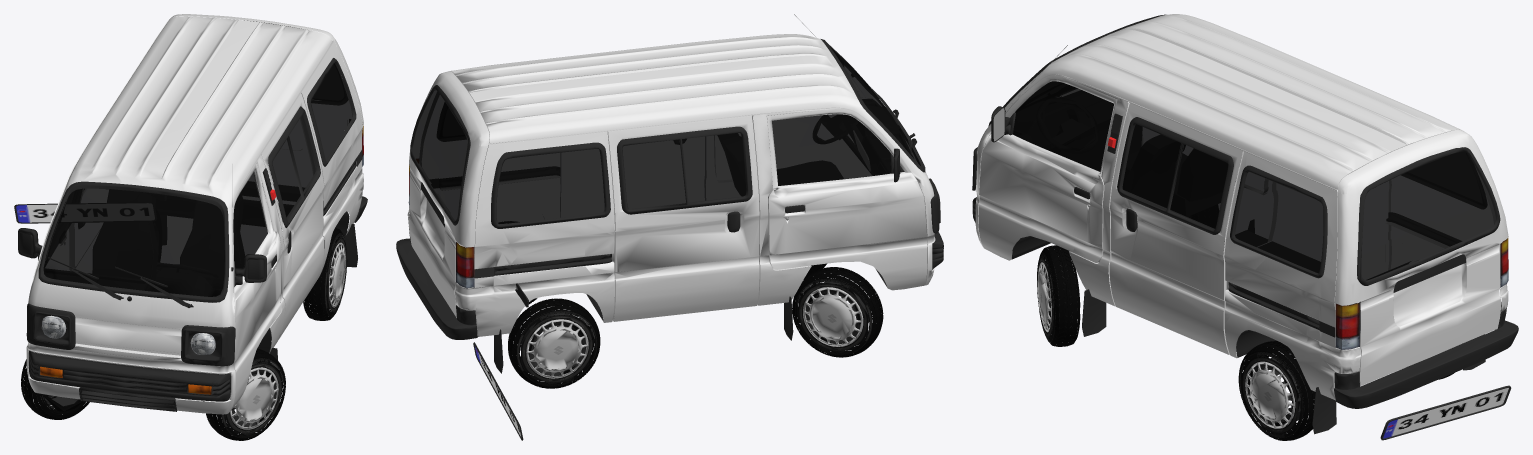
Rendered from suzuki_carry_minivan.glb.
3 renders of one model, left to right at view 1: azimuth 30°, elevation 25°; view 2: azimuth 150°, elevation 25°; view 3: azimuth 270°, elevation 25°, orthographic. The views are drawn at different scales.
Visible parts, largest first — view 1: 3DSMeshMatrix (×17); view 2: 3DSMeshMatrix (×14); view 3: 3DSMeshMatrix (×17).
Boxes of the visible parts, left/top/right/bottom form: 3DSMeshMatrix (×17): left=14, top=14, right=367, bottom=440; 3DSMeshMatrix (×14): left=396, top=34, right=943, bottom=440; 3DSMeshMatrix (×17): left=972, top=14, right=1518, bottom=440.
Bounding box in the file's own units: 311 × 202 × 310.
Materials: 16 (5 with a texture image).
